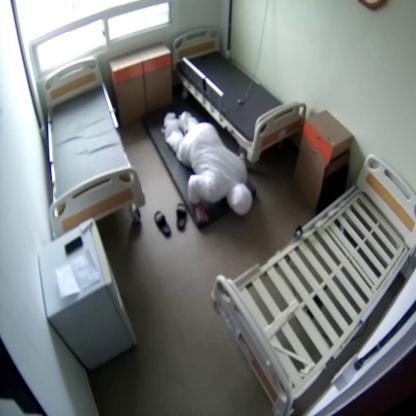Bed: (172, 27, 306, 162)
Person: (165, 110, 252, 224)
